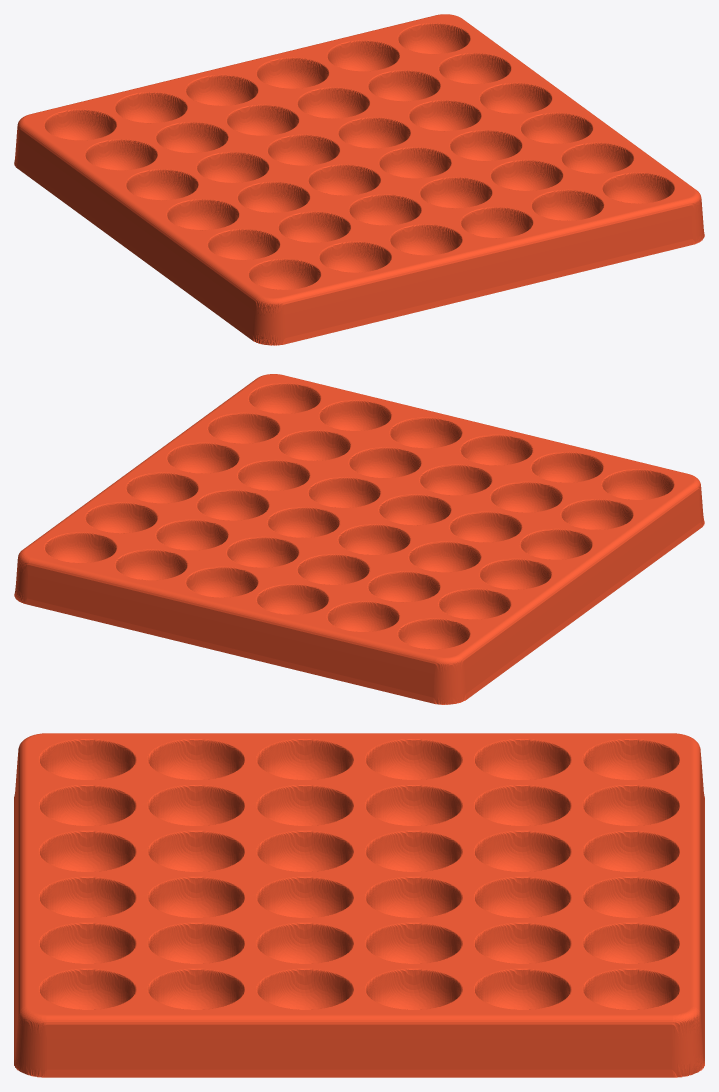
File: mold.glb
3 renders of one model, top to bottom at view 1: azimuth 30°, elevation 25°; view 2: azimuth 150°, elevation 25°; view 3: azimuth 270°, elevation 25°, orthographic. The views are drawn at different scales.
Visible parts, largest first — view 1: geometry_0; view 2: geometry_0; view 3: geometry_0.
Boxes of the visible parts, x1,y1,x2,y2 form: geometry_0: (14, 14, 704, 345); geometry_0: (14, 374, 704, 704); geometry_0: (14, 733, 704, 1077).
Bounding box in the file's own units: 0.1877 × 0.0172 × 0.1877.
